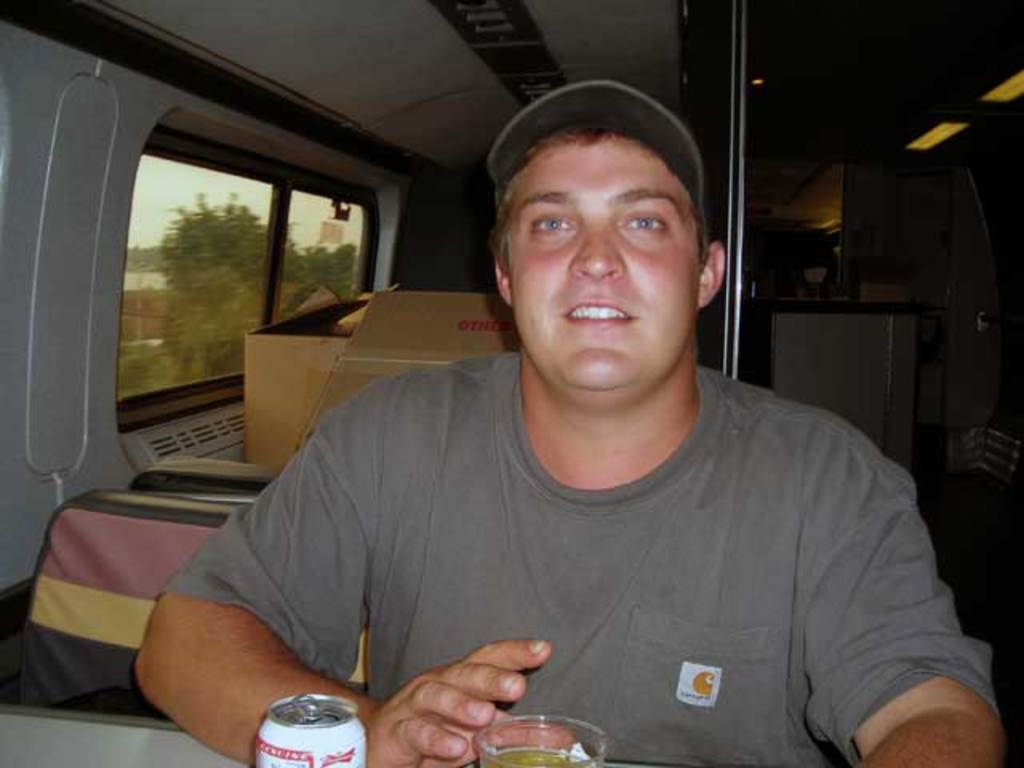Human_hand: (370, 643, 566, 749)
